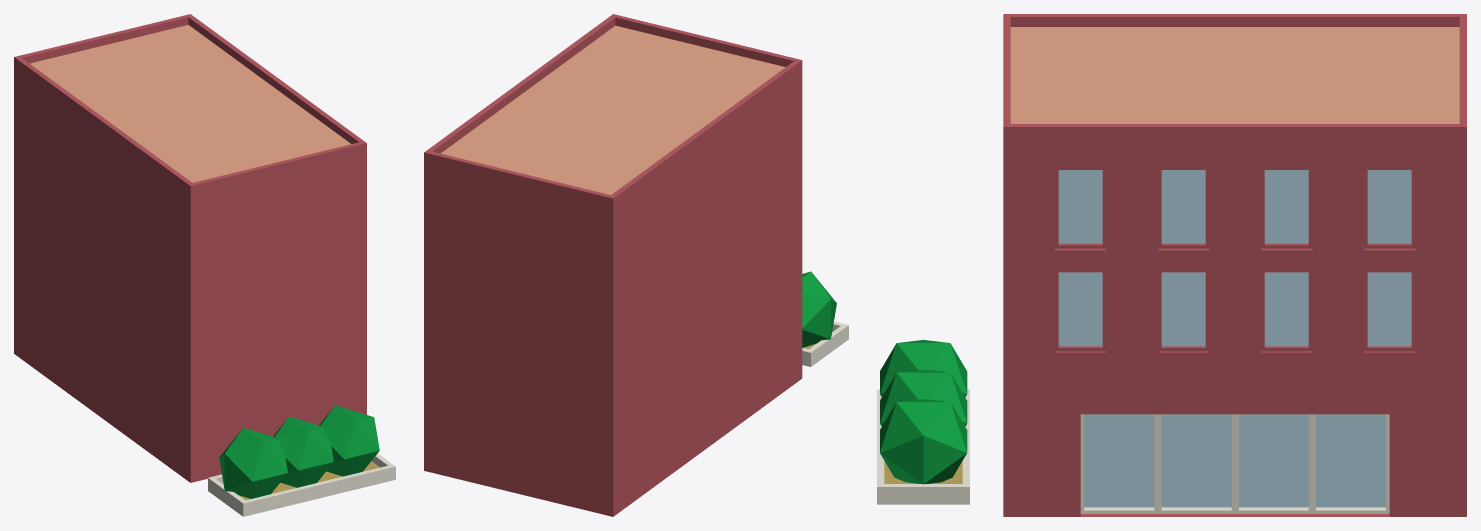
Rendered from 建筑物7.fbx.
3 renders of one model, left to right at view 1: azimuth 30°, elevation 25°; view 2: azimuth 150°, elevation 25°; view 3: azimuth 270°, elevation 25°, orthographic. The views are drawn at different scales.
Parts seen in each view (by area): view 1: 左花6_1; view 2: 左花6_1; view 3: 左花6_1.
Boxes of the visible parts, bbox=[...] form: 左花6_1: bbox=[14, 14, 395, 516]; 左花6_1: bbox=[424, 14, 848, 516]; 左花6_1: bbox=[877, 14, 1466, 516].
Bounding box in the file's own units: 730 × 1173 × 1609.
